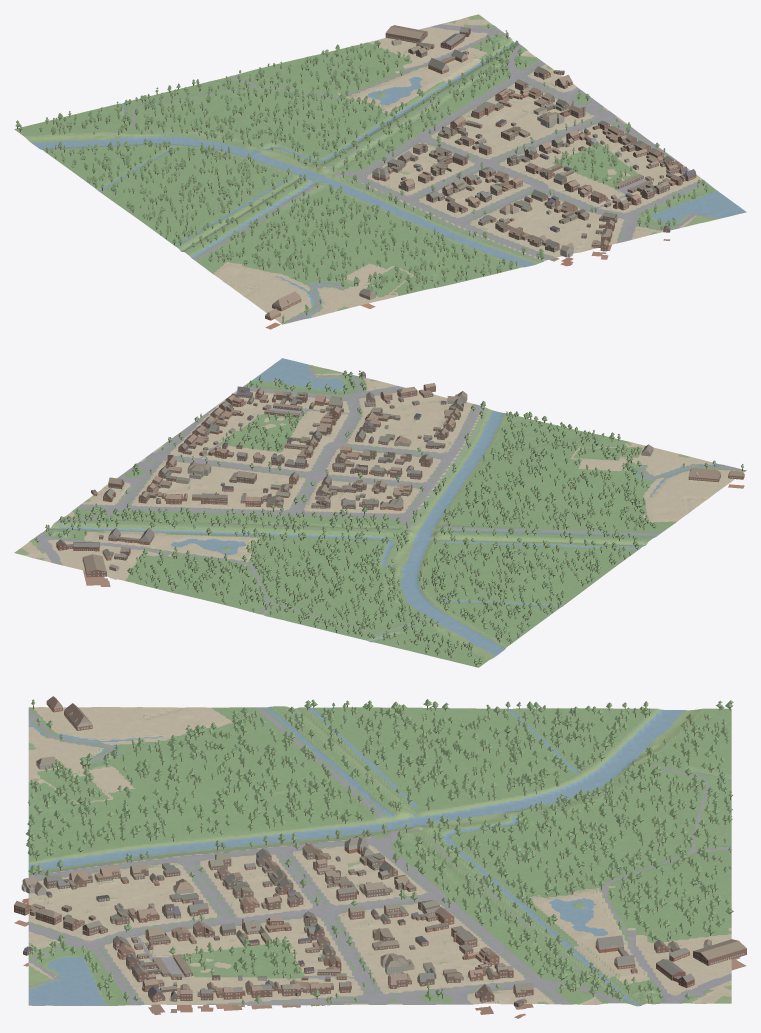
The model's file is bosven-veghel_x330_y807.glb.
3 views of the same model, one above another, from view 1: azimuth 30°, elevation 25°; view 2: azimuth 150°, elevation 25°; view 3: azimuth 270°, elevation 25° (orthographic). The views are drawn at different scales.
Parts seen in each view (by area): view 1: class:green, class:sand, class:tree, class:road, class:wall, class:grass, class:roof, class:water, class:trunk, class:trim; view 2: class:green, class:sand, class:tree, class:road, class:wall, class:roof, class:grass, class:water, class:trunk, class:trim; view 3: class:green, class:sand, class:tree, class:road, class:wall, class:roof, class:water, class:grass, class:trunk, class:trim.
Part boxes in pixels (bbox=[...]): class:green: bbox=[14, 24, 716, 324]; class:sand: bbox=[213, 17, 702, 322]; class:tree: bbox=[15, 23, 708, 319]; class:road: bbox=[132, 24, 718, 323]; class:wall: bbox=[265, 28, 696, 329]; class:grass: bbox=[25, 14, 720, 318]; class:roof: bbox=[265, 25, 695, 317]; class:water: bbox=[31, 41, 746, 318]; class:trunk: bbox=[17, 27, 706, 322]; class:trim: bbox=[265, 32, 695, 319]; class:green: bbox=[29, 375, 746, 667]; class:sand: bbox=[21, 373, 744, 583]; class:tree: bbox=[35, 370, 743, 664]; class:road: bbox=[33, 365, 741, 633]; class:wall: bbox=[56, 372, 744, 586]; class:roof: bbox=[56, 371, 744, 572]; class:grass: bbox=[14, 364, 732, 659]; class:water: bbox=[49, 358, 720, 656]; class:trunk: bbox=[37, 375, 742, 666]; class:trim: bbox=[56, 375, 744, 576]; class:green: bbox=[28, 706, 731, 1005]; class:sand: bbox=[28, 707, 731, 1005]; class:tree: bbox=[26, 699, 733, 1003]; class:road: bbox=[28, 707, 731, 1005]; class:wall: bbox=[14, 701, 746, 1018]; class:roof: bbox=[14, 696, 746, 1003]; class:water: bbox=[28, 706, 731, 1006]; class:grass: bbox=[28, 706, 731, 1006]; class:trunk: bbox=[29, 705, 730, 1004]; class:trim: bbox=[15, 702, 744, 1005].
Size of the model in its own units: 512 by 20.51 by 522.
